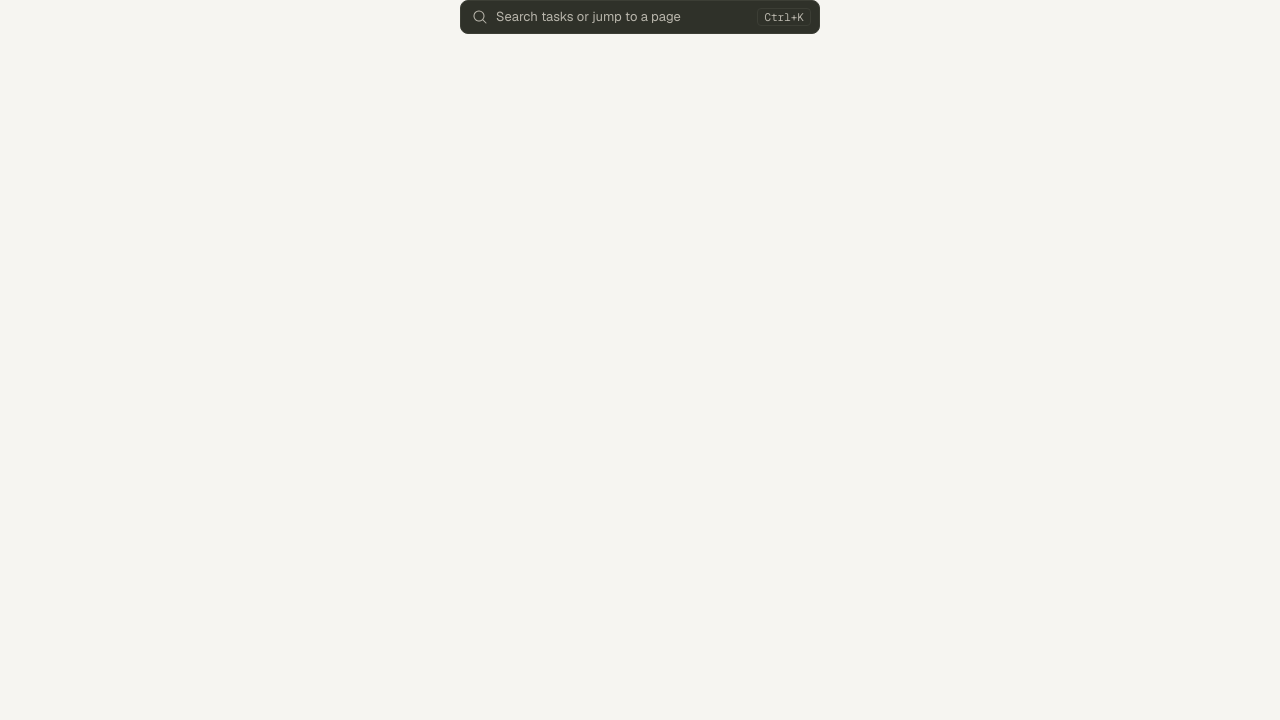
Scenario: the search palette › searches as you type, narrows the pages and marks the words that matched
This screenshot has width=1280, height=720.
Press k
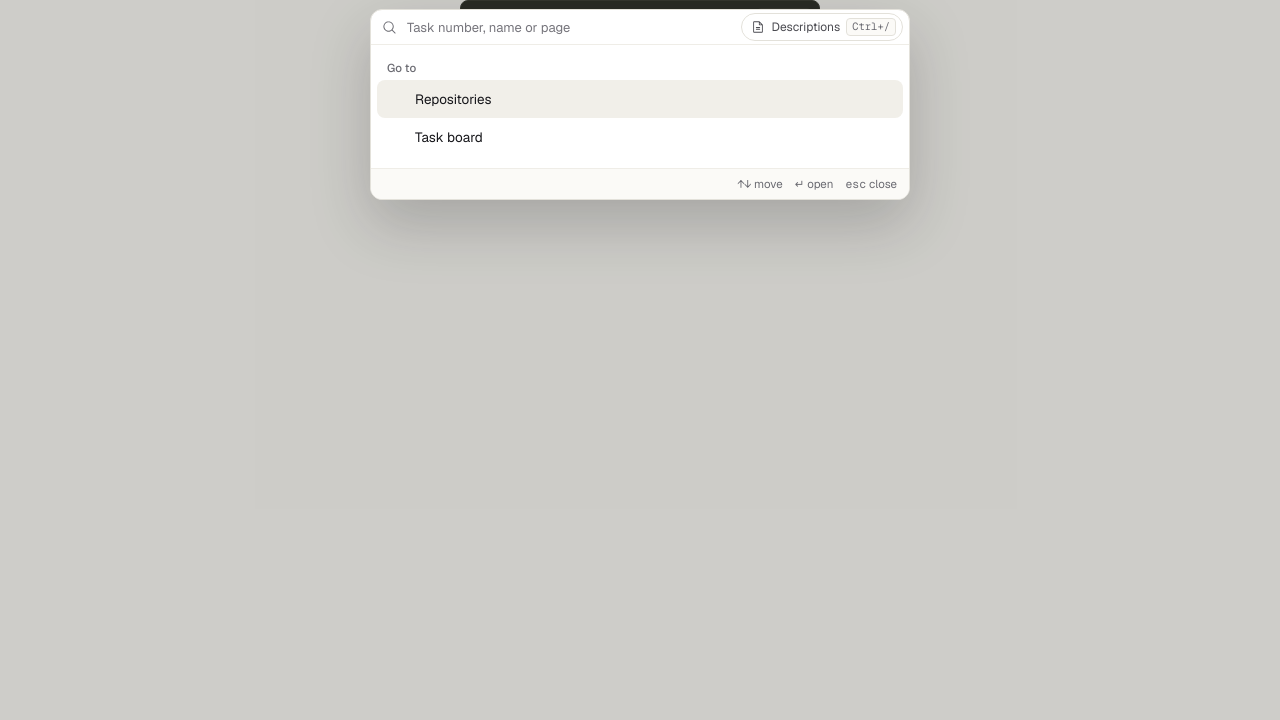
Type "board" into the dropdown with placeholder "Task number, name or page" at (569, 27), box [407, 11, 731, 43]
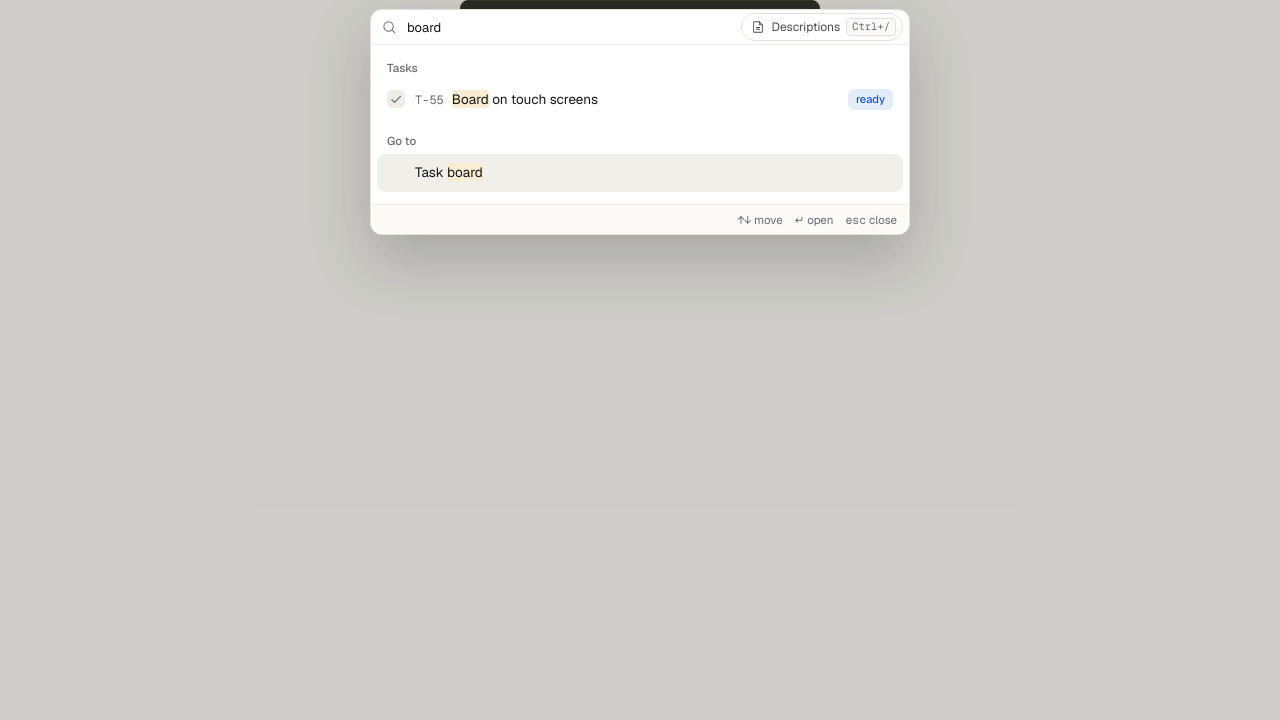
Check: the text "board" is shown, box [447, 163, 483, 181]
Check: the text "Tasks" is shown, box [387, 60, 418, 75]
Check: the text "Board" is shown, box [452, 90, 489, 108]
